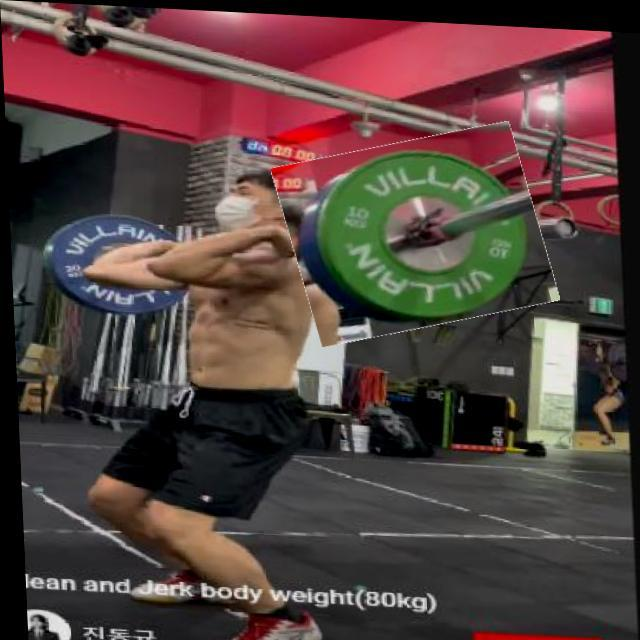barbell: (278, 121, 551, 340)
